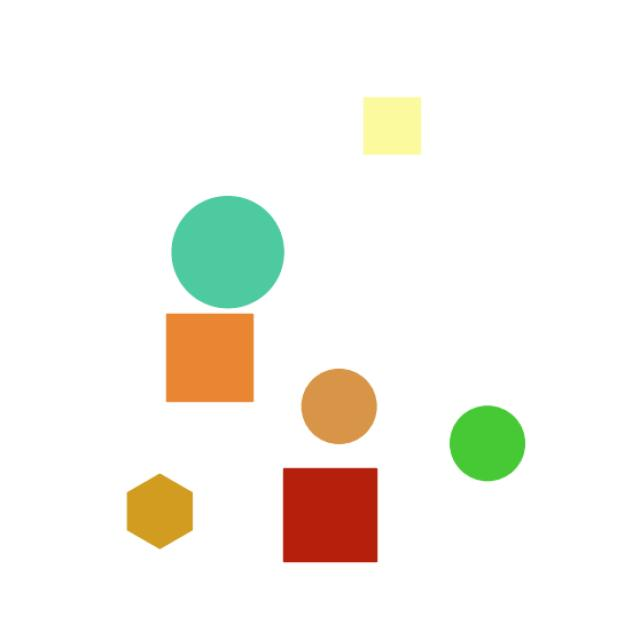Circle: (165, 189, 321, 319), (441, 395, 565, 498), (297, 353, 390, 461)
Hexagon: (116, 459, 221, 564)
square: (271, 452, 407, 578), (151, 299, 275, 417), (351, 86, 452, 170)
